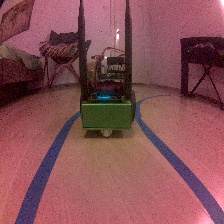rob: (78, 55, 137, 137)
